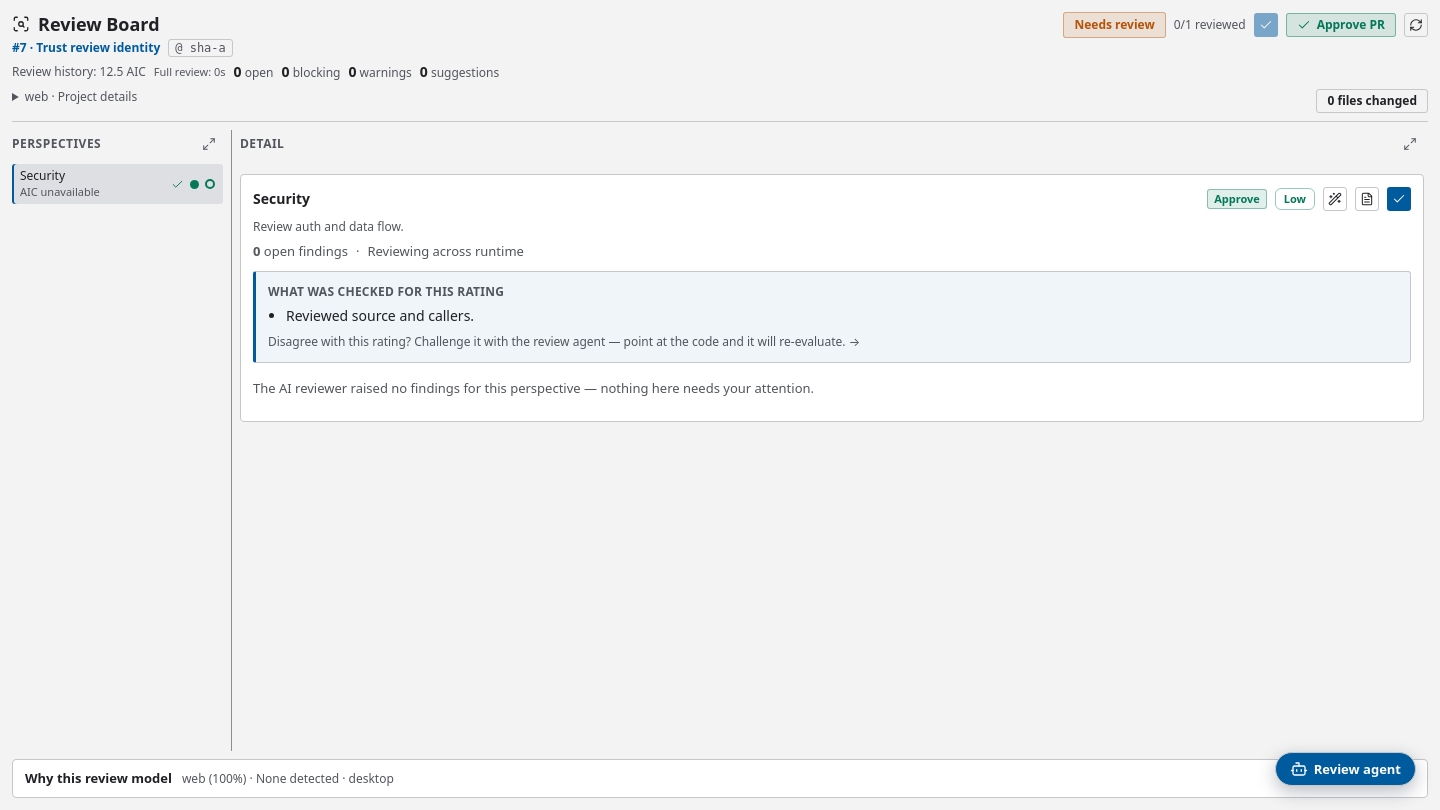
Test case: ReviewBoardPage sign-off identity › replaces a completed review action with confirmed remote approval, not another analysis
The width and height of the screenshot is (1440, 810).
Click the button "Approve PR".
click(1341, 25)  # box [1286,13,1396,37]
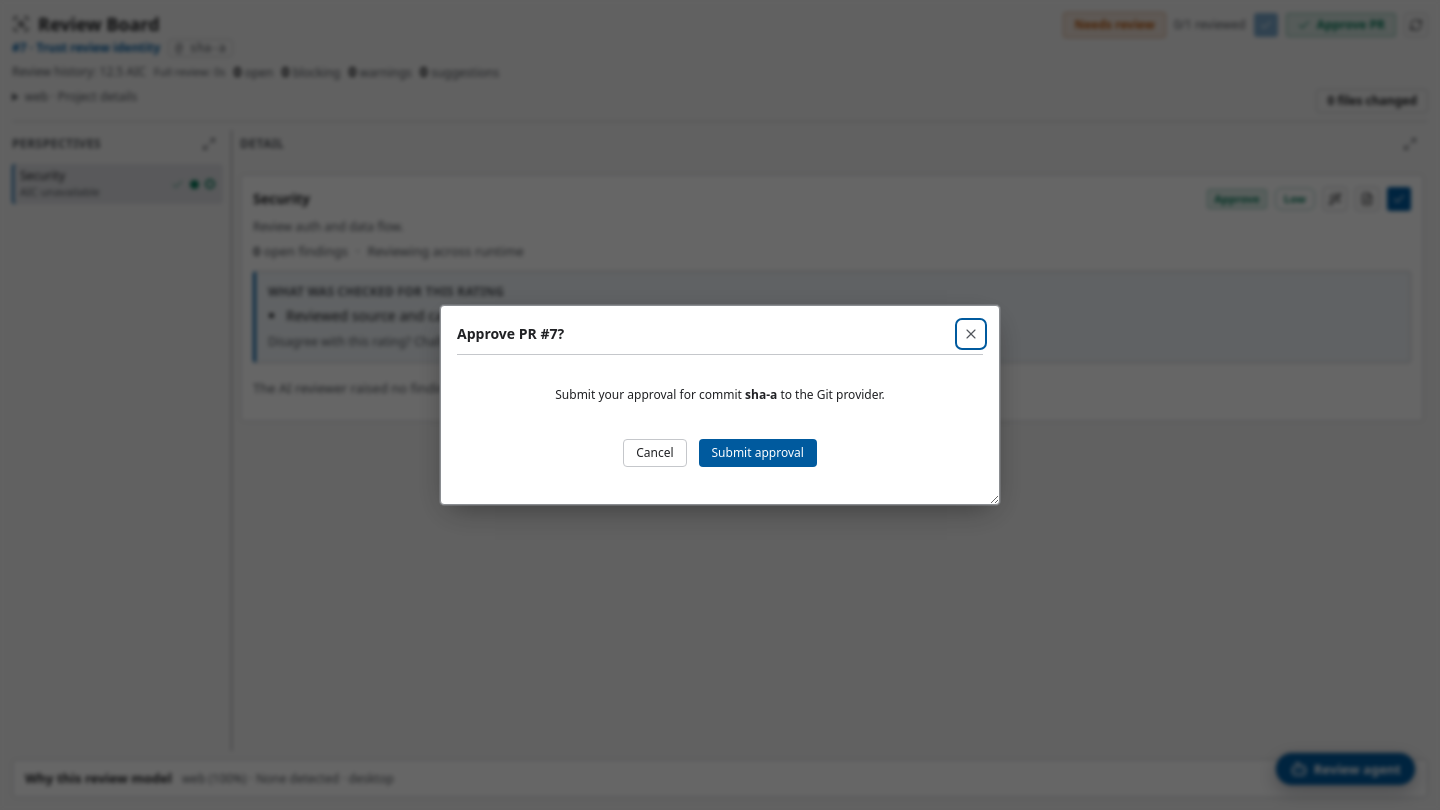
Click the button "Submit approval".
click(758, 453)  # box [698,439,817,467]
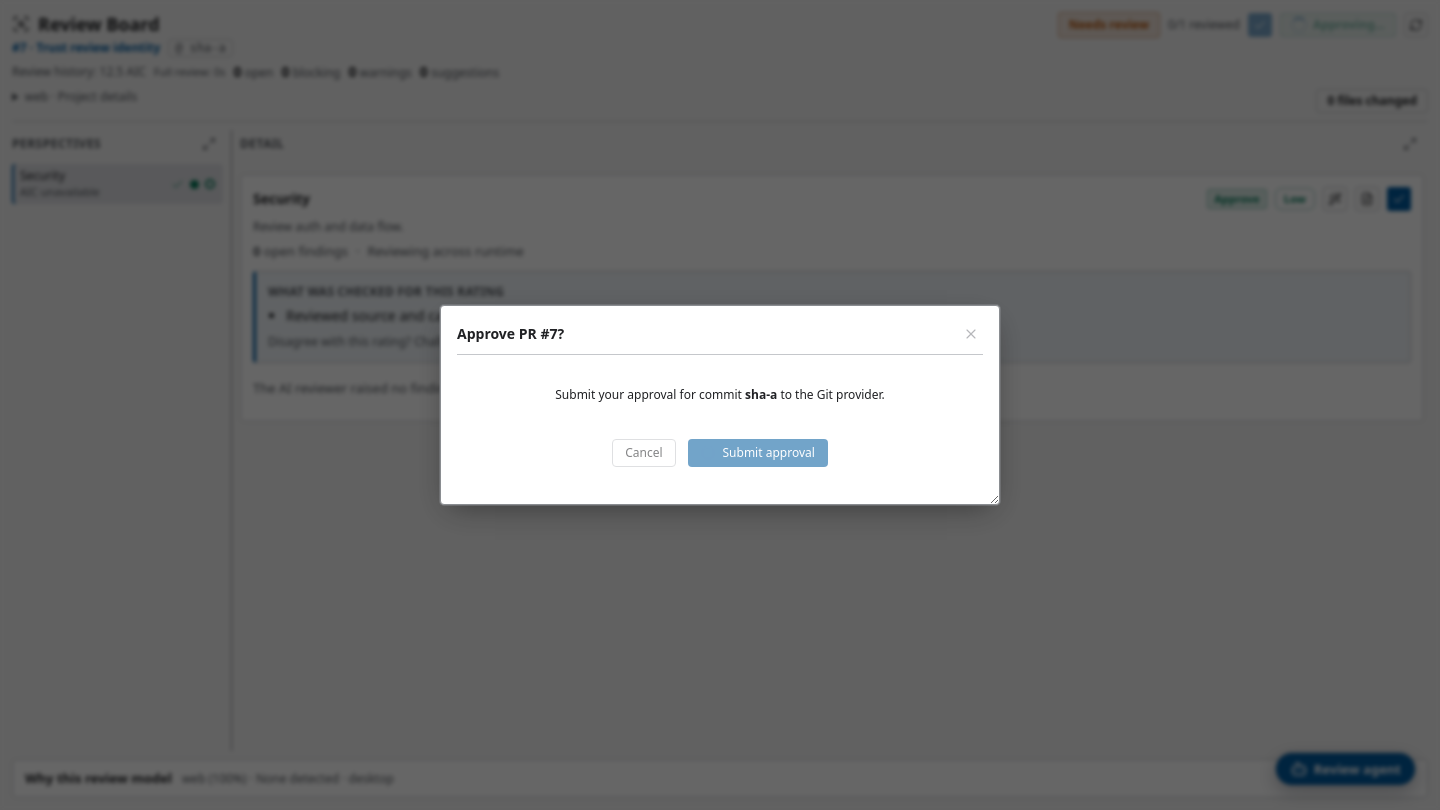
Click the button "Submit approval".
click(758, 453)  # box [688,439,828,467]
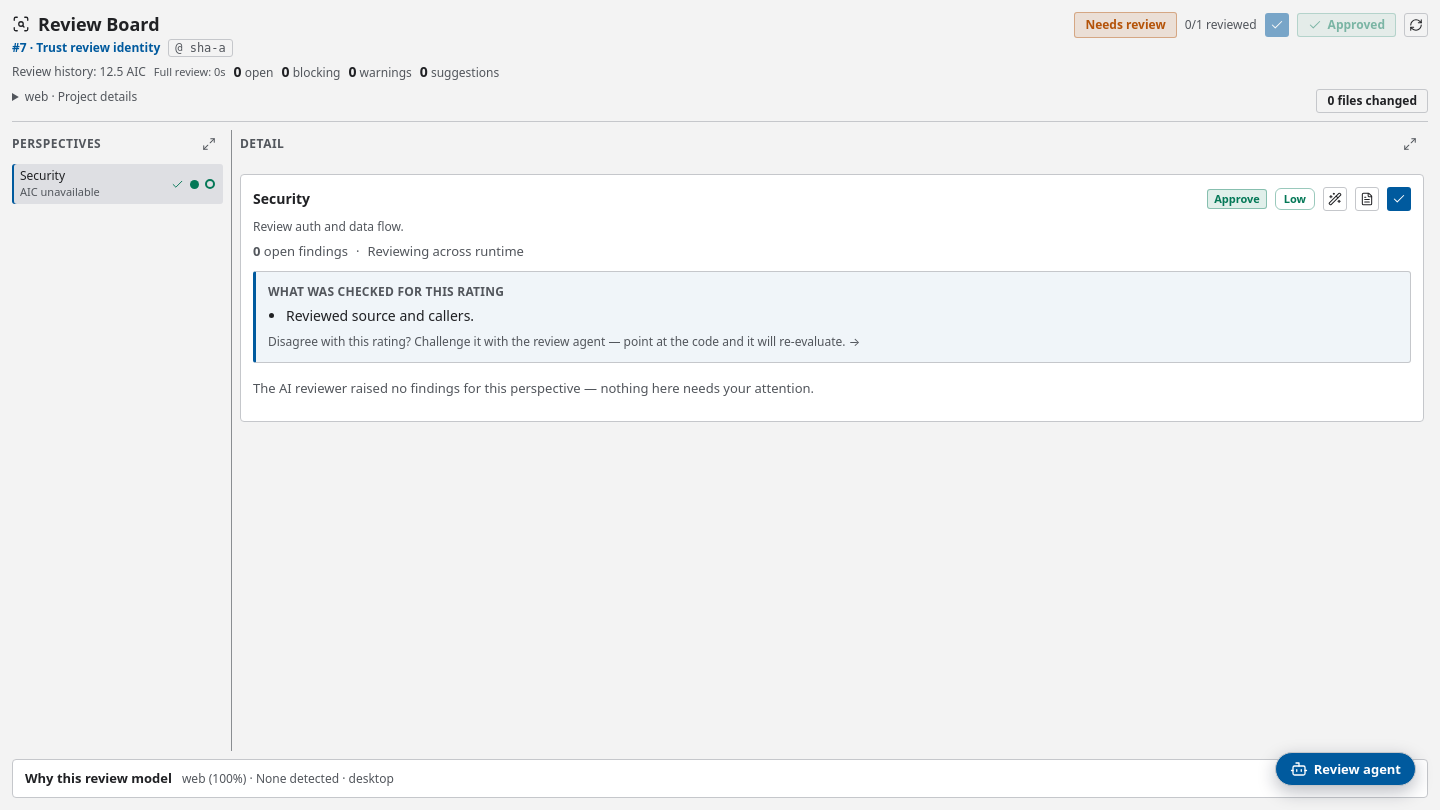
Now the button "Approved" is disabled, box [1297,13,1396,37]
Click the button named "Reset".
click(1416, 25)  # box [1404,13,1428,37]
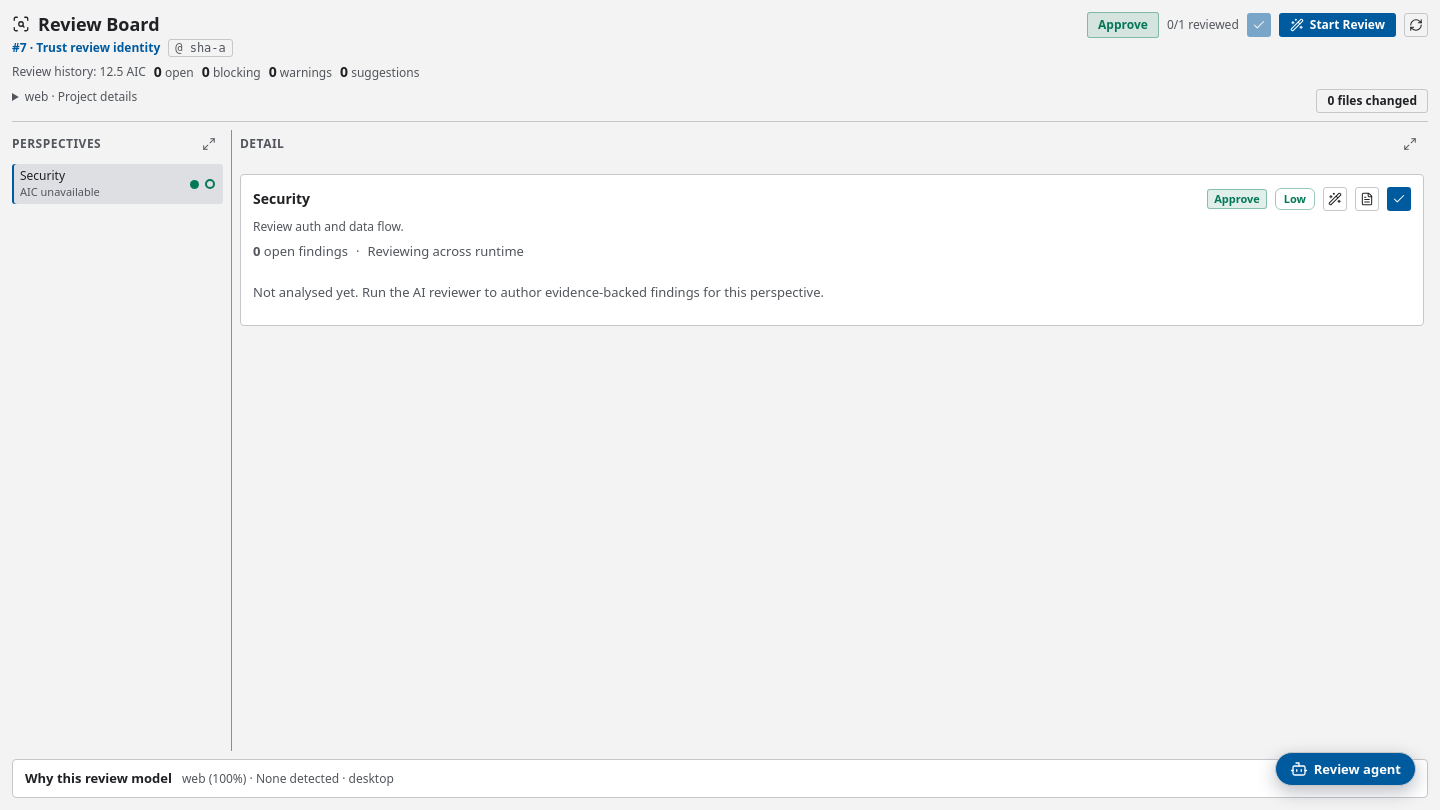
Now the button "Start Review" is shown, box [1279,13,1396,37]
